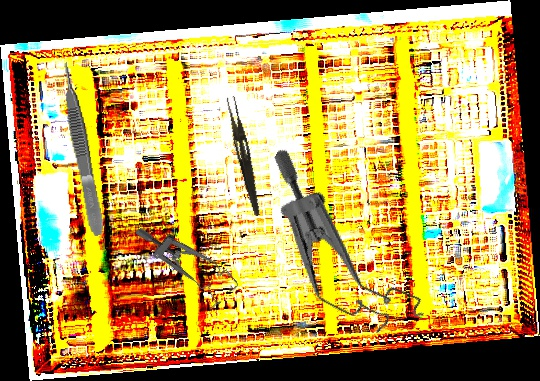Dressing Forceps: (221, 95, 267, 217)
Speculum: (223, 146, 463, 350), (134, 202, 241, 317)
Tissue Forceps: (57, 60, 107, 238)
